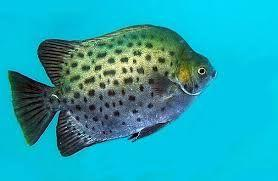Scat Fish: (9, 22, 215, 160)
